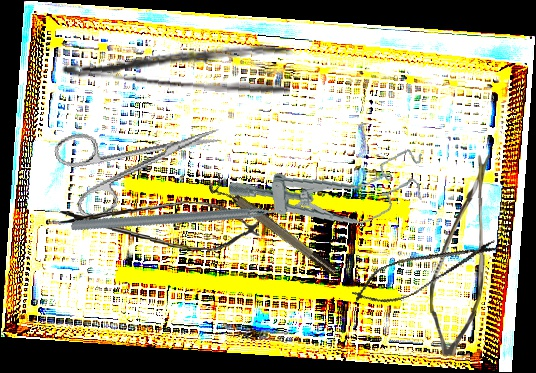Chopper: (70, 125, 310, 300)
Dressing Forceps: (59, 27, 294, 98)
Fixation Ring: (204, 171, 340, 284)
Iris Scissors: (51, 96, 233, 224)
Micro Scissor: (347, 225, 503, 316), (427, 153, 494, 357), (57, 194, 262, 254)
Speculum: (226, 147, 429, 238)
